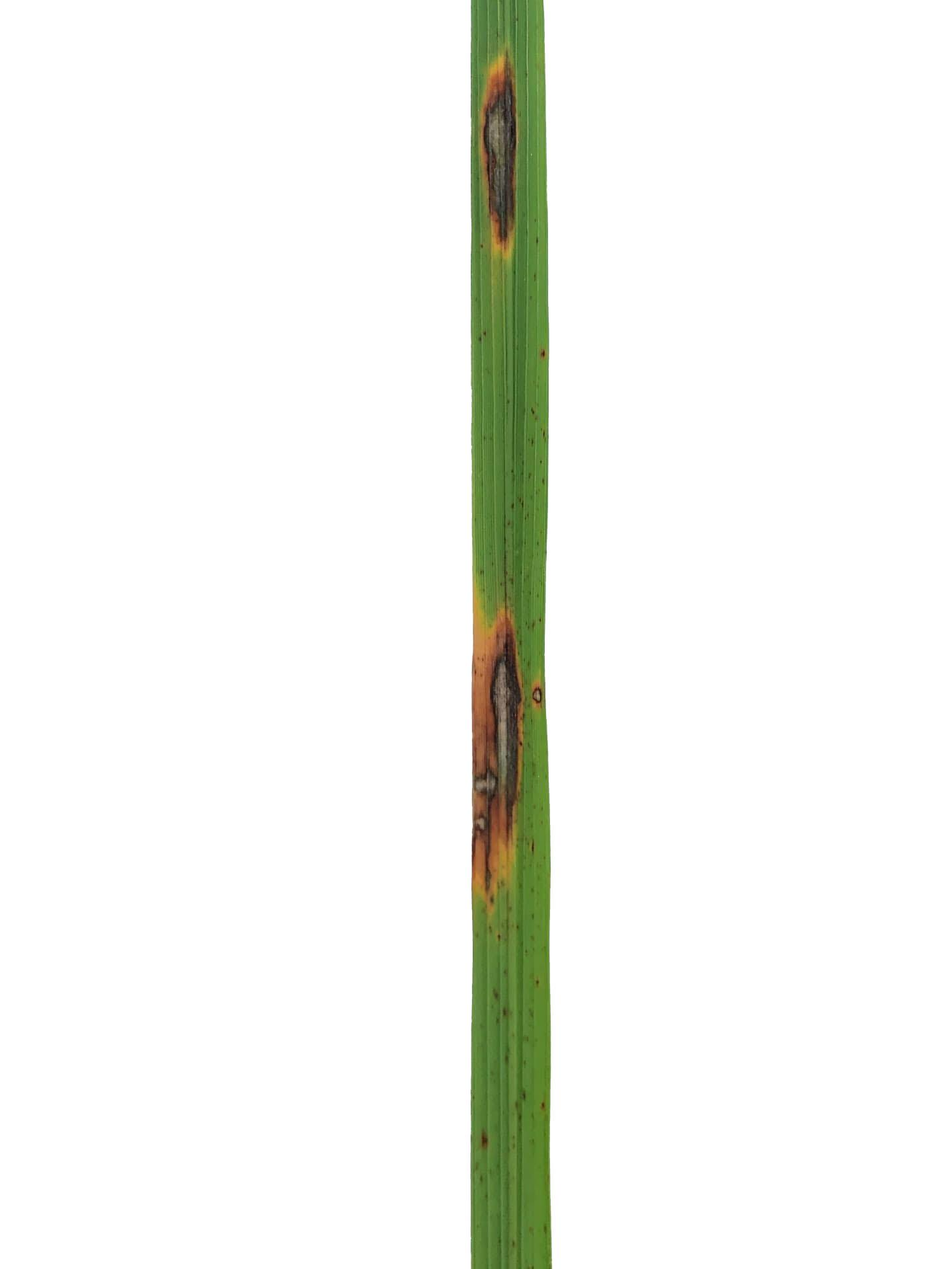Rice blast: (473, 595, 522, 879), (473, 46, 526, 248)
